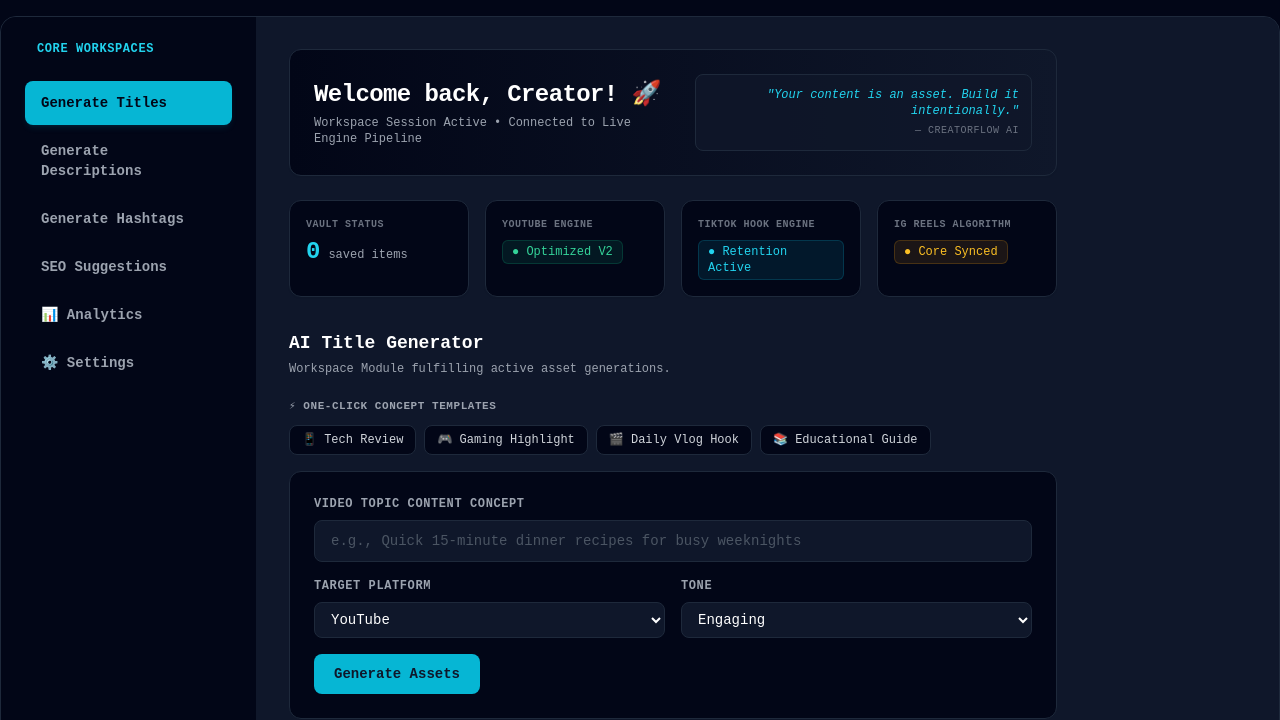
Scenario: AIToolStudio — layout and inputs › a one-click template fills in the topic field
Step 1. Click the button "🎮 Gaming Highlight" → (506, 440), box top-left (424, 425), bottom-right (588, 455)
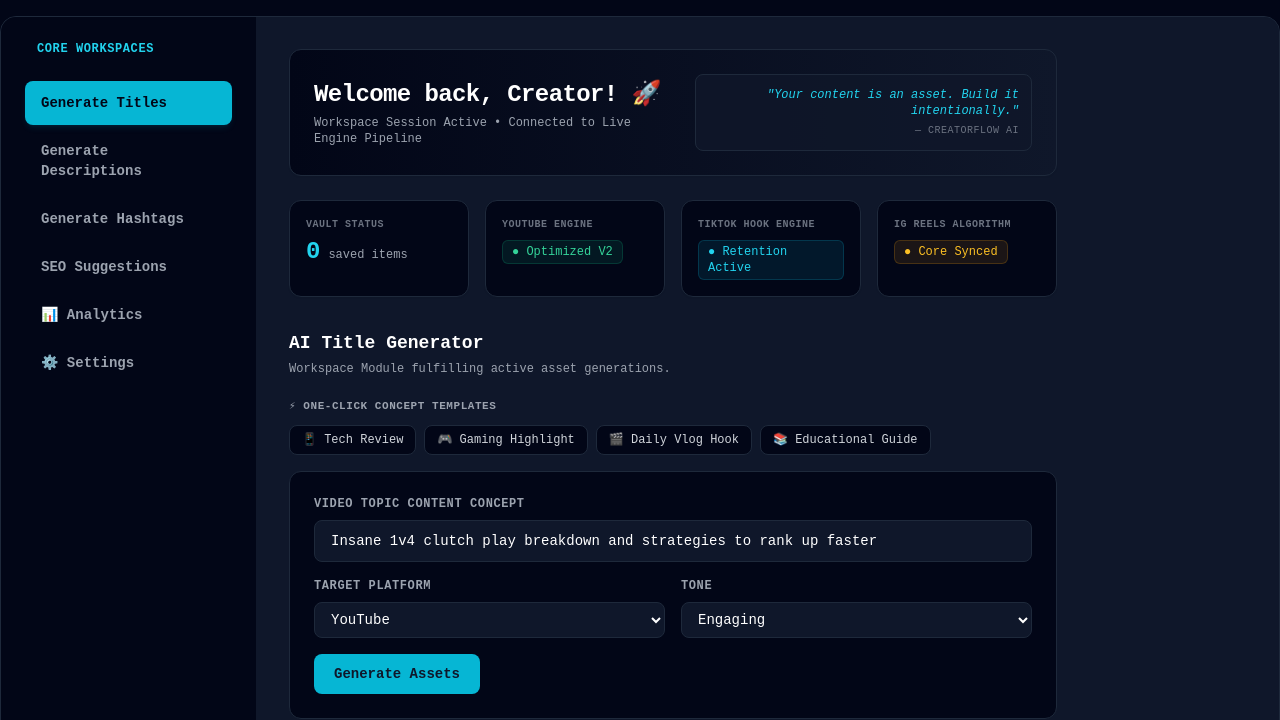
expect the field with placeholder "e.g., Quick 15-minute dinner recipes for busy weeknights" holds "Insane 1v4 clutch play breakdown and strategies to rank up faster": met, box top-left (314, 520), bottom-right (1032, 562)
